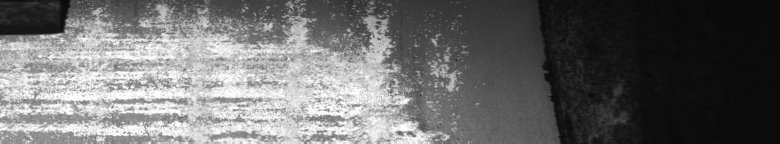kb: (4, 4, 468, 136)
